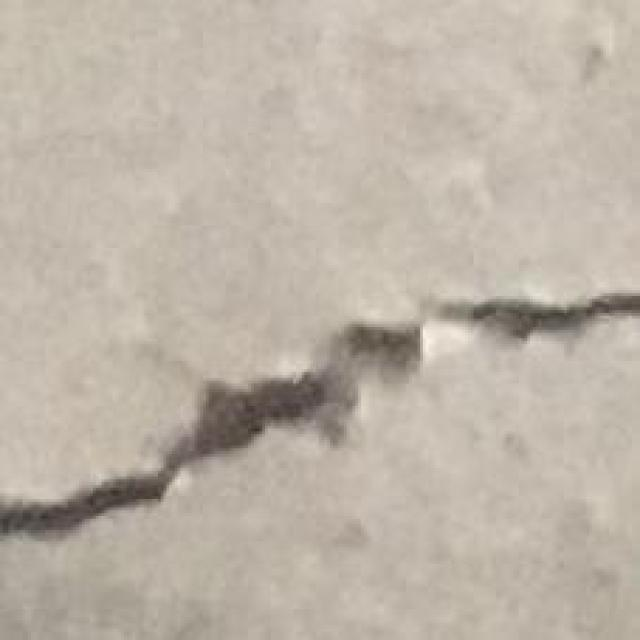diagonal crack: (0, 330, 409, 541)
horizontal crack: (426, 293, 640, 344)
